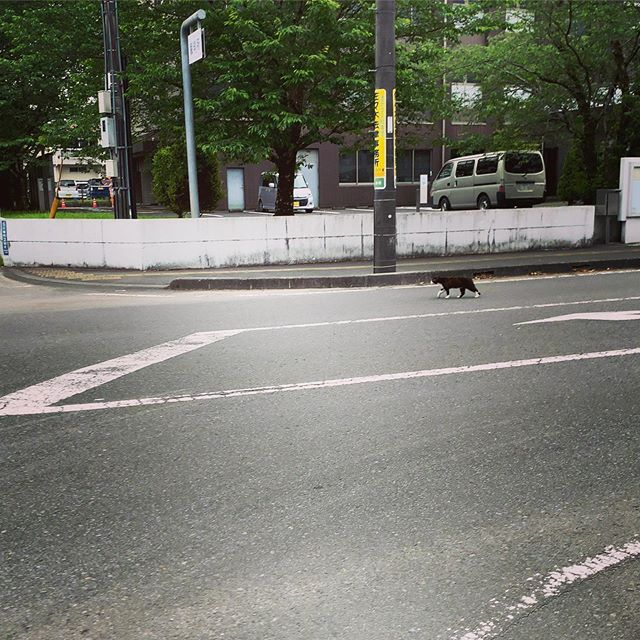animal: (420, 266, 485, 312)
sidewalk: (11, 237, 640, 313)
street: (1, 275, 639, 640)
tree: (180, 1, 399, 224), (470, 1, 640, 200)
van: (430, 148, 544, 212)
